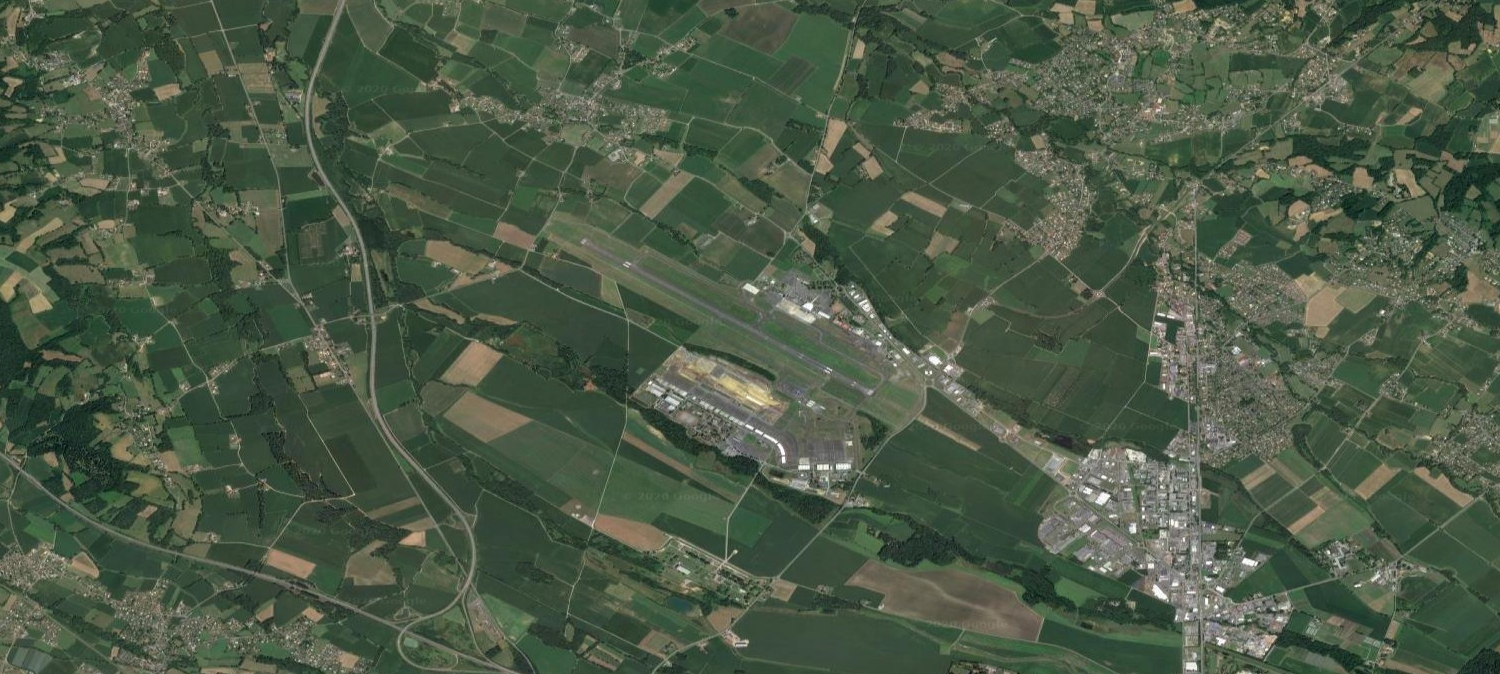airport: (576, 233, 886, 473)
motorway: (396, 584, 472, 674), (281, 576, 401, 633), (1, 446, 85, 520), (167, 550, 291, 586), (434, 484, 478, 584), (378, 414, 435, 486), (85, 515, 174, 555), (306, 140, 351, 218), (346, 209, 373, 306), (368, 304, 382, 417), (317, 1, 343, 61), (305, 56, 321, 142)
